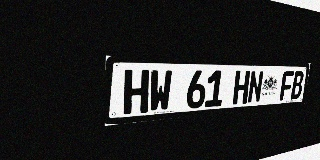1: (205, 70, 225, 107)
6: (186, 70, 207, 109)
B: (290, 71, 304, 99)
F: (279, 71, 294, 100)
H: (123, 70, 149, 115), (232, 71, 250, 105)
N: (247, 71, 264, 103)
W: (148, 70, 173, 112)
